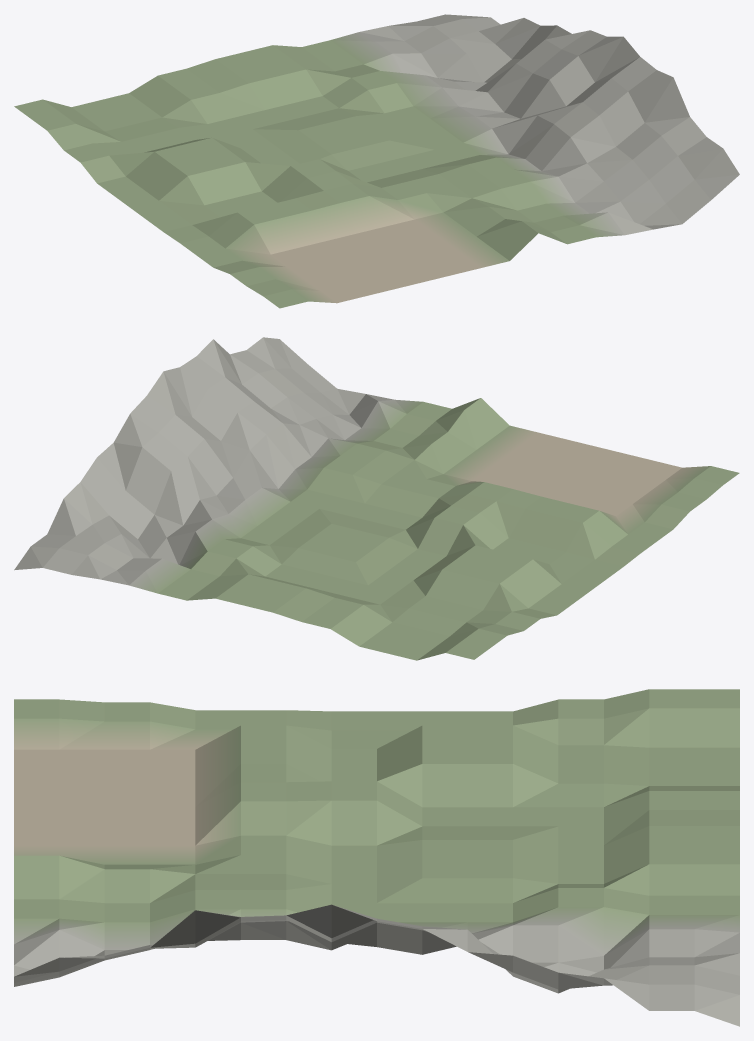
3 renders of one model, top to bottom at view 1: azimuth 30°, elevation 25°; view 2: azimuth 150°, elevation 25°; view 3: azimuth 270°, elevation 25°, orthographic. The views are drawn at different scales.
Size of the model in its own units: 32 by 6.34 by 32.
